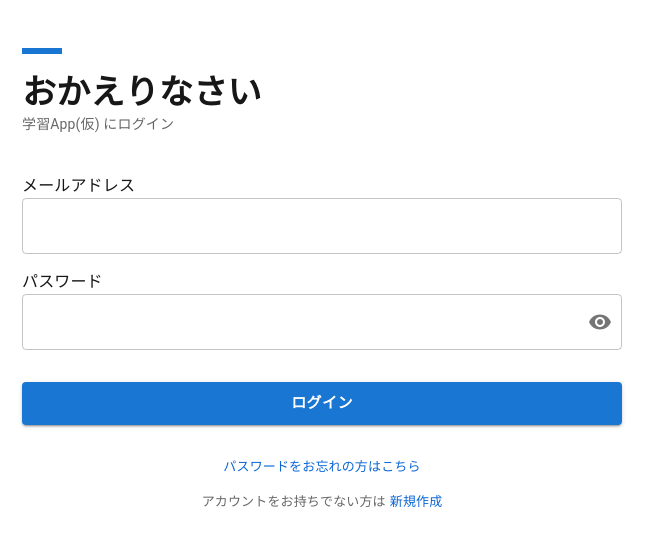
Scenario: Login › useSubmit がエラーメッセージを設定すると画面に表示される
The width and height of the screenshot is (645, 556).
Type "hina@example.com" into the field at (322, 226), box [22,198,622,254]
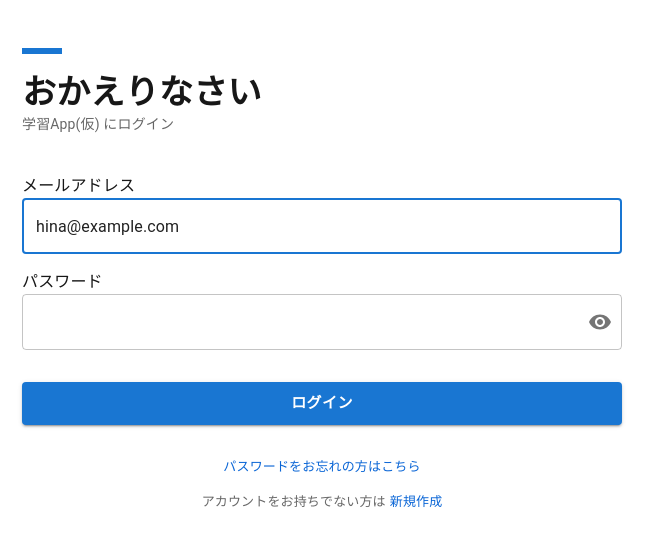
Type "password123" into the password field named "password" at (297, 322), box [22,294,572,350]
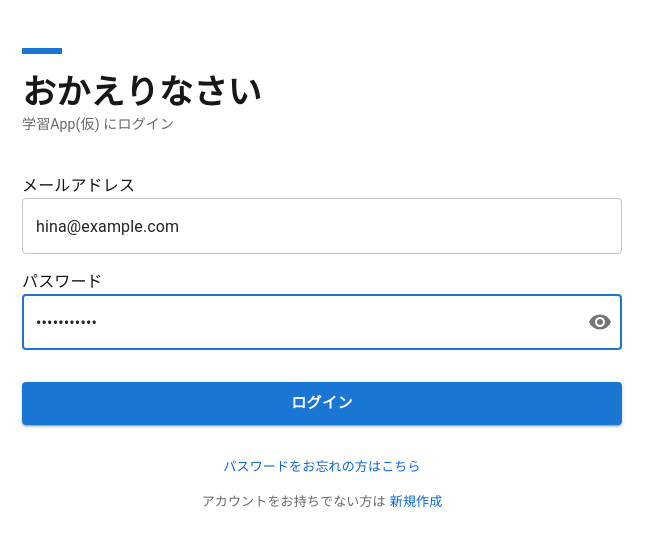
Click the button "ログイン" at (322, 404), box [22,382,622,425]
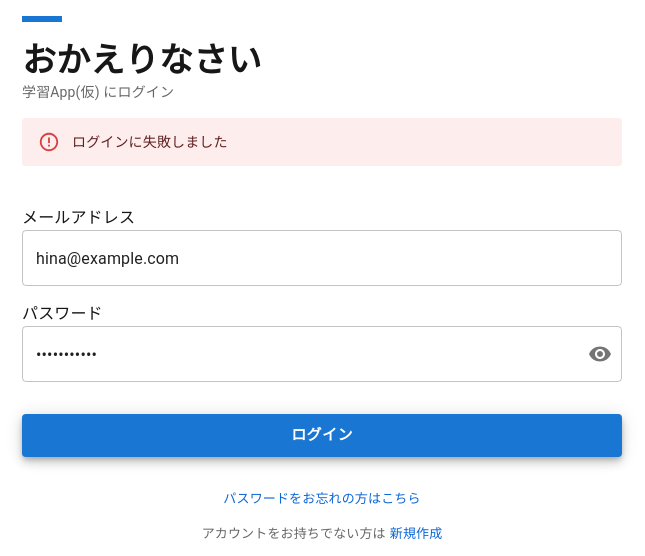
expect the message reads "ログインに失敗しました": met, box [72,134,228,150]
